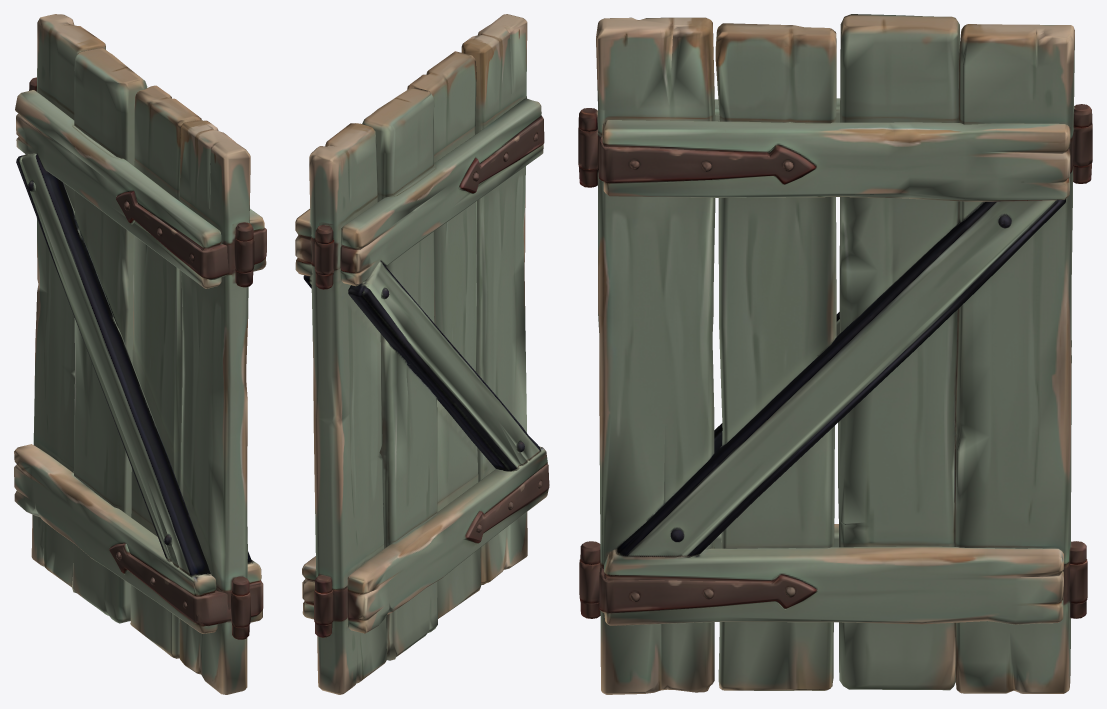
The picture shows the model from 3 angles, left to right: view 1: azimuth 30°, elevation 25°; view 2: azimuth 150°, elevation 25°; view 3: azimuth 270°, elevation 25°; orthographic projection. The views are drawn at different scales.
Visible parts, largest first — view 1: tripo_node_c095221d; view 2: tripo_node_c095221d; view 3: tripo_node_c095221d.
Boxes of the visible parts, left/top/right/bottom form: tripo_node_c095221d: left=14, top=14, right=266, bottom=694; tripo_node_c095221d: left=295, top=14, right=549, bottom=694; tripo_node_c095221d: left=578, top=14, right=1092, bottom=694.
Size of the model in its own units: 0.1567 by 0.9995 by 0.6978.
1 material, 1 textured.
